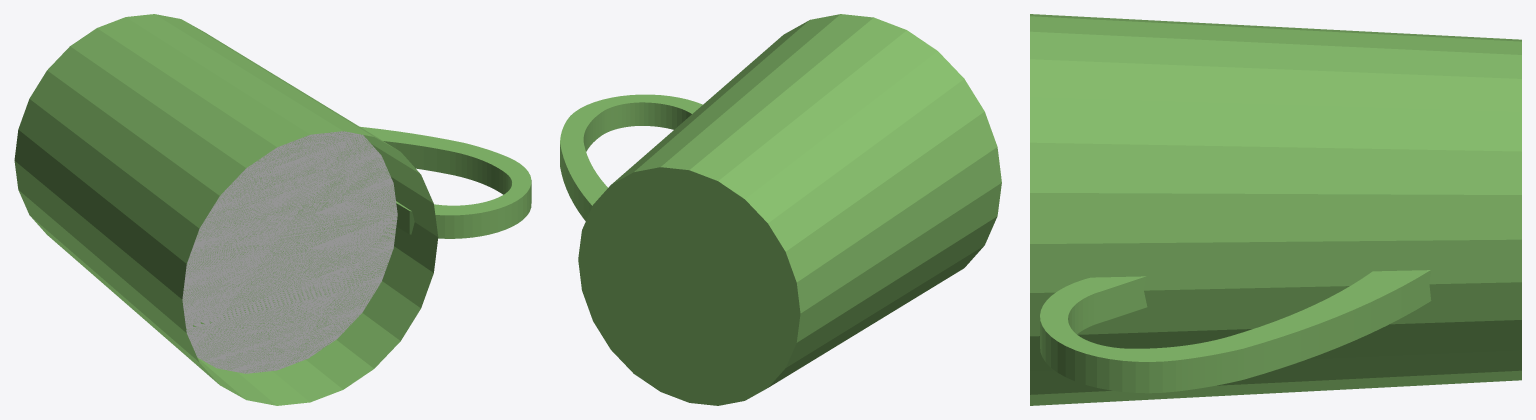
The model's file is mug_collision2.obj.
The picture shows the model from 3 angles, left to right: view 1: azimuth 30°, elevation 25°; view 2: azimuth 150°, elevation 25°; view 3: azimuth 270°, elevation 25°; orthographic projection. The views are drawn at different scales.
Visible parts, largest first — view 1: material_3_24, material_4_24, material_2_1_8, material_1_24, material_0_24; view 2: material_3_24, material_1_24, material_2_1_8, material_0_24; view 3: material_3_24, material_2_1_8, material_1_24, material_0_24.
Boxes of the visible parts, x1,y1,x2,y2 form: material_3_24: (14, 14, 438, 405); material_4_24: (182, 131, 397, 373); material_2_1_8: (15, 14, 531, 404); material_1_24: (182, 126, 531, 373); material_0_24: (385, 142, 531, 238); material_3_24: (611, 14, 1001, 387); material_1_24: (560, 94, 800, 405); material_2_1_8: (560, 14, 1001, 404); material_0_24: (560, 102, 690, 219); material_3_24: (1030, 14, 1521, 405); material_2_1_8: (1030, 14, 1521, 405); material_1_24: (1040, 270, 1431, 393); material_0_24: (1040, 272, 1430, 392).
Size of the model in its own units: 0.1228 by 0.0822 by 0.1027.
